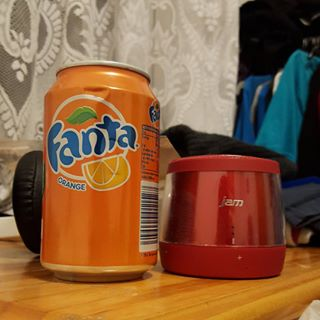fanta: (47, 71, 160, 286)
